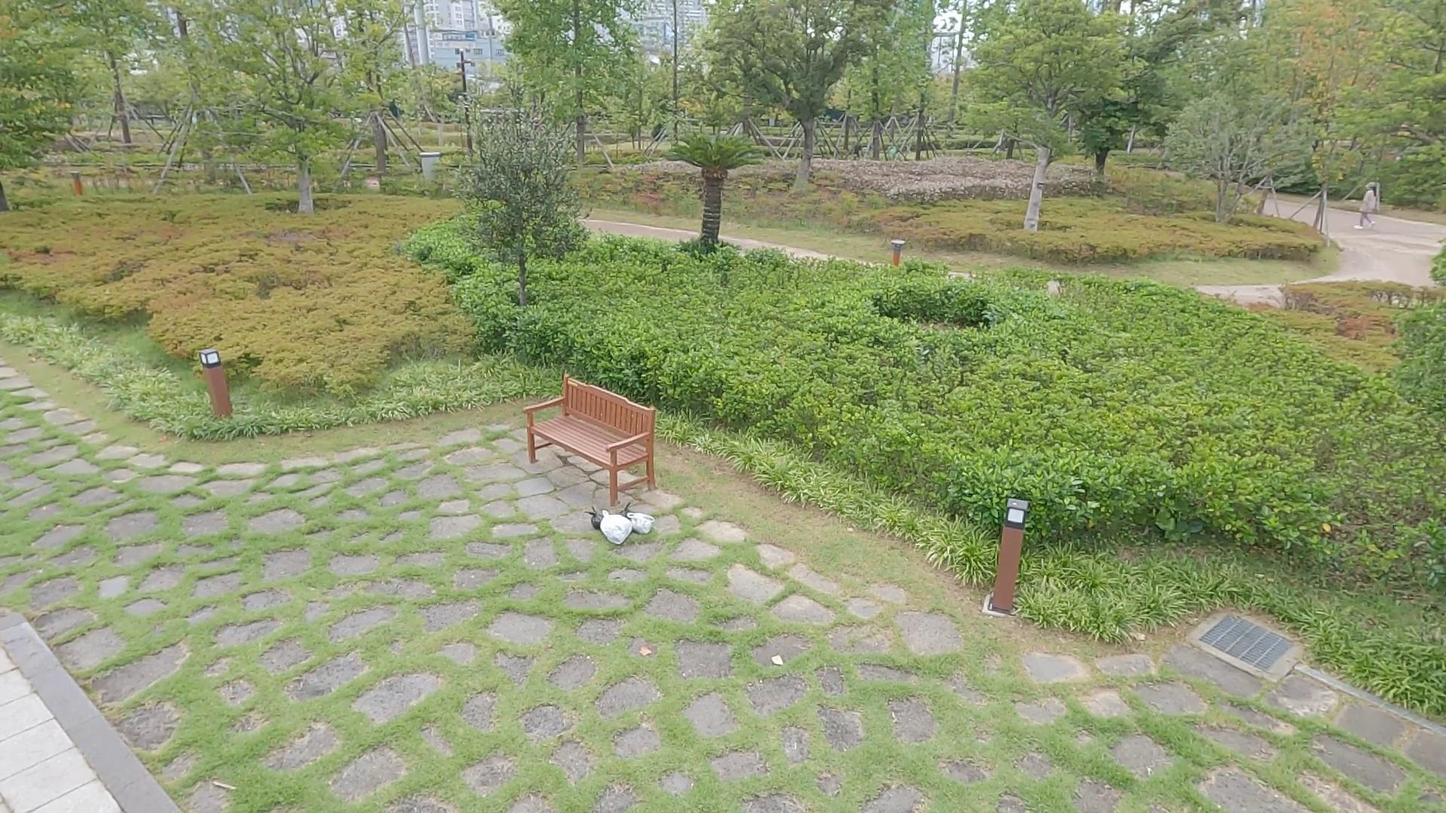trash: (601, 511, 631, 544), (628, 505, 654, 536)
